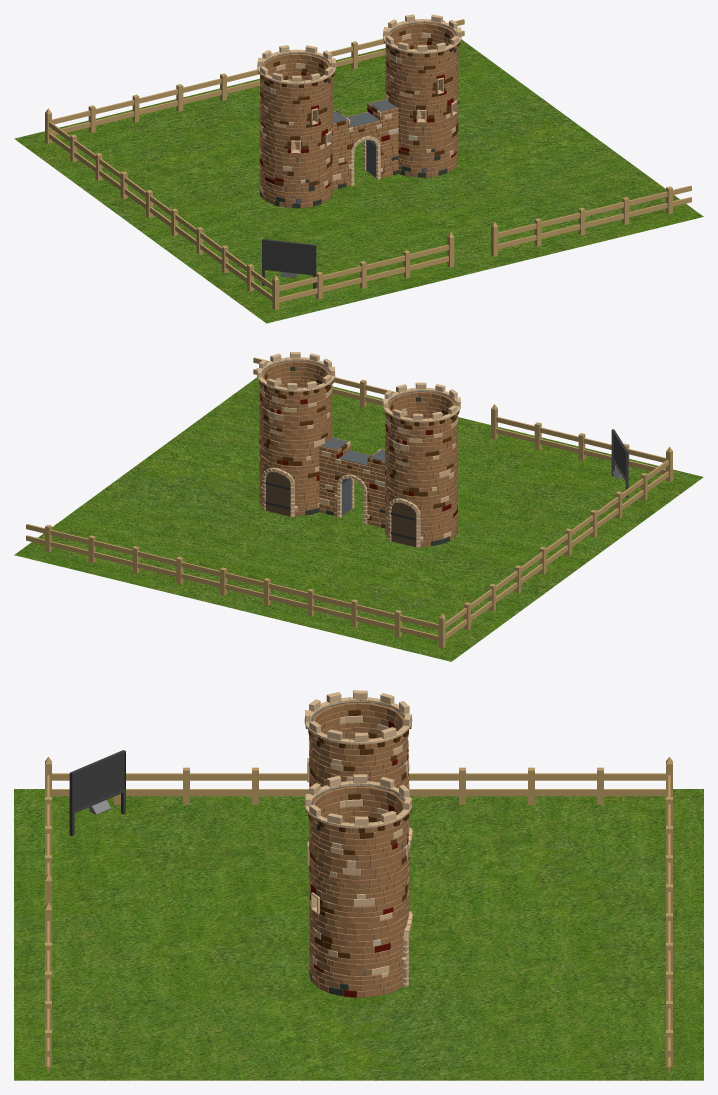
The model's file is region-1.glb.
3 renders of one model, top to bottom at view 1: azimuth 30°, elevation 25°; view 2: azimuth 150°, elevation 25°; view 3: azimuth 270°, elevation 25°, orthographic. The views are drawn at different scales.
Parts seen in each view (by area): view 1: base, wall-section-with-doorway, top-section-with-crenellation, top-section-with-crenellation.001, base-section-with-doorway, mid-section-with-three-slits, mid-section-with-three-slits.001, base-section-with-doorway.001, fence-mid-piece-x5.002, fence-mid-piece-x5.001, fence-mid-piece-x3.003, fence-mid-piece-x3 (+6 smaller); view 2: base, wall-section-with-doorway, top-section-with-crenellation, top-section-with-crenellation.001, mid-section-with-three-slits, mid-section-with-three-slits.001, fence-mid-piece-x5.002, base-section-with-doorway, fence-mid-piece-x4, fence-mid-piece-x5.001, base-section-with-doorway.001, fence-mid-piece-x3 (+7 smaller); view 3: base, top-section-with-crenellation.001, top-section-with-crenellation, mid-section-with-three-slits.001, base-section-with-doorway.001, fence-mid-piece-x3.001, fence-mid-piece-x5.001, info-board-assembly-large, mid-section-with-three-slits, fence-mid-piece-x5.002, fence-mid-piece-x4, fence-corner-piece.001 (+1 smaller).
Boxes of the visible parts, bbox=[...] form: base: bbox=[14, 39, 703, 323]; wall-section-with-doorway: bbox=[332, 99, 398, 189]; top-section-with-crenellation: bbox=[257, 45, 335, 108]; top-section-with-crenellation.001: bbox=[383, 14, 461, 77]; base-section-with-doorway: bbox=[259, 142, 332, 208]; mid-section-with-three-slits: bbox=[259, 79, 332, 158]; mid-section-with-three-slits.001: bbox=[385, 49, 458, 127]; base-section-with-doorway.001: bbox=[398, 111, 458, 177]; fence-mid-piece-x5.002: bbox=[70, 69, 259, 133]; fence-mid-piece-x5.001: bbox=[136, 185, 263, 293]; fence-mid-piece-x3.003: bbox=[516, 196, 647, 246]; fence-mid-piece-x3: bbox=[297, 249, 429, 299]; base: bbox=[14, 377, 703, 661]; wall-section-with-doorway: bbox=[319, 437, 385, 528]; top-section-with-crenellation: bbox=[382, 382, 460, 446]; top-section-with-crenellation.001: bbox=[256, 352, 335, 415]; mid-section-with-three-slits: bbox=[385, 417, 458, 496]; mid-section-with-three-slits.001: bbox=[259, 387, 332, 465]; fence-mid-piece-x5.002: bbox=[201, 566, 420, 637]; base-section-with-doorway: bbox=[385, 481, 457, 547]; fence-mid-piece-x4: bbox=[26, 524, 201, 584]; fence-mid-piece-x5.001: bbox=[530, 468, 657, 576]; base-section-with-doorway.001: bbox=[259, 452, 319, 517]; fence-mid-piece-x3: bbox=[516, 421, 647, 469]; base: bbox=[14, 789, 703, 1080]; top-section-with-crenellation.001: bbox=[304, 774, 412, 860]; top-section-with-crenellation: bbox=[304, 690, 412, 776]; mid-section-with-three-slits.001: bbox=[307, 821, 409, 929]; base-section-with-doorway.001: bbox=[309, 910, 412, 997]; fence-mid-piece-x3.001: bbox=[428, 767, 634, 804]; fence-mid-piece-x5.001: bbox=[114, 767, 427, 804]; info-board-assembly-large: bbox=[69, 750, 125, 835]; mid-section-with-three-slits: bbox=[307, 738, 409, 826]; fence-mid-piece-x5.002: bbox=[666, 788, 672, 942]; fence-mid-piece-x4: bbox=[666, 934, 672, 1072]; fence-corner-piece.001: bbox=[635, 757, 672, 796].
Bounding box in the file's own units: 20 × 5.77 × 20.
43 materials, 1 textured.
